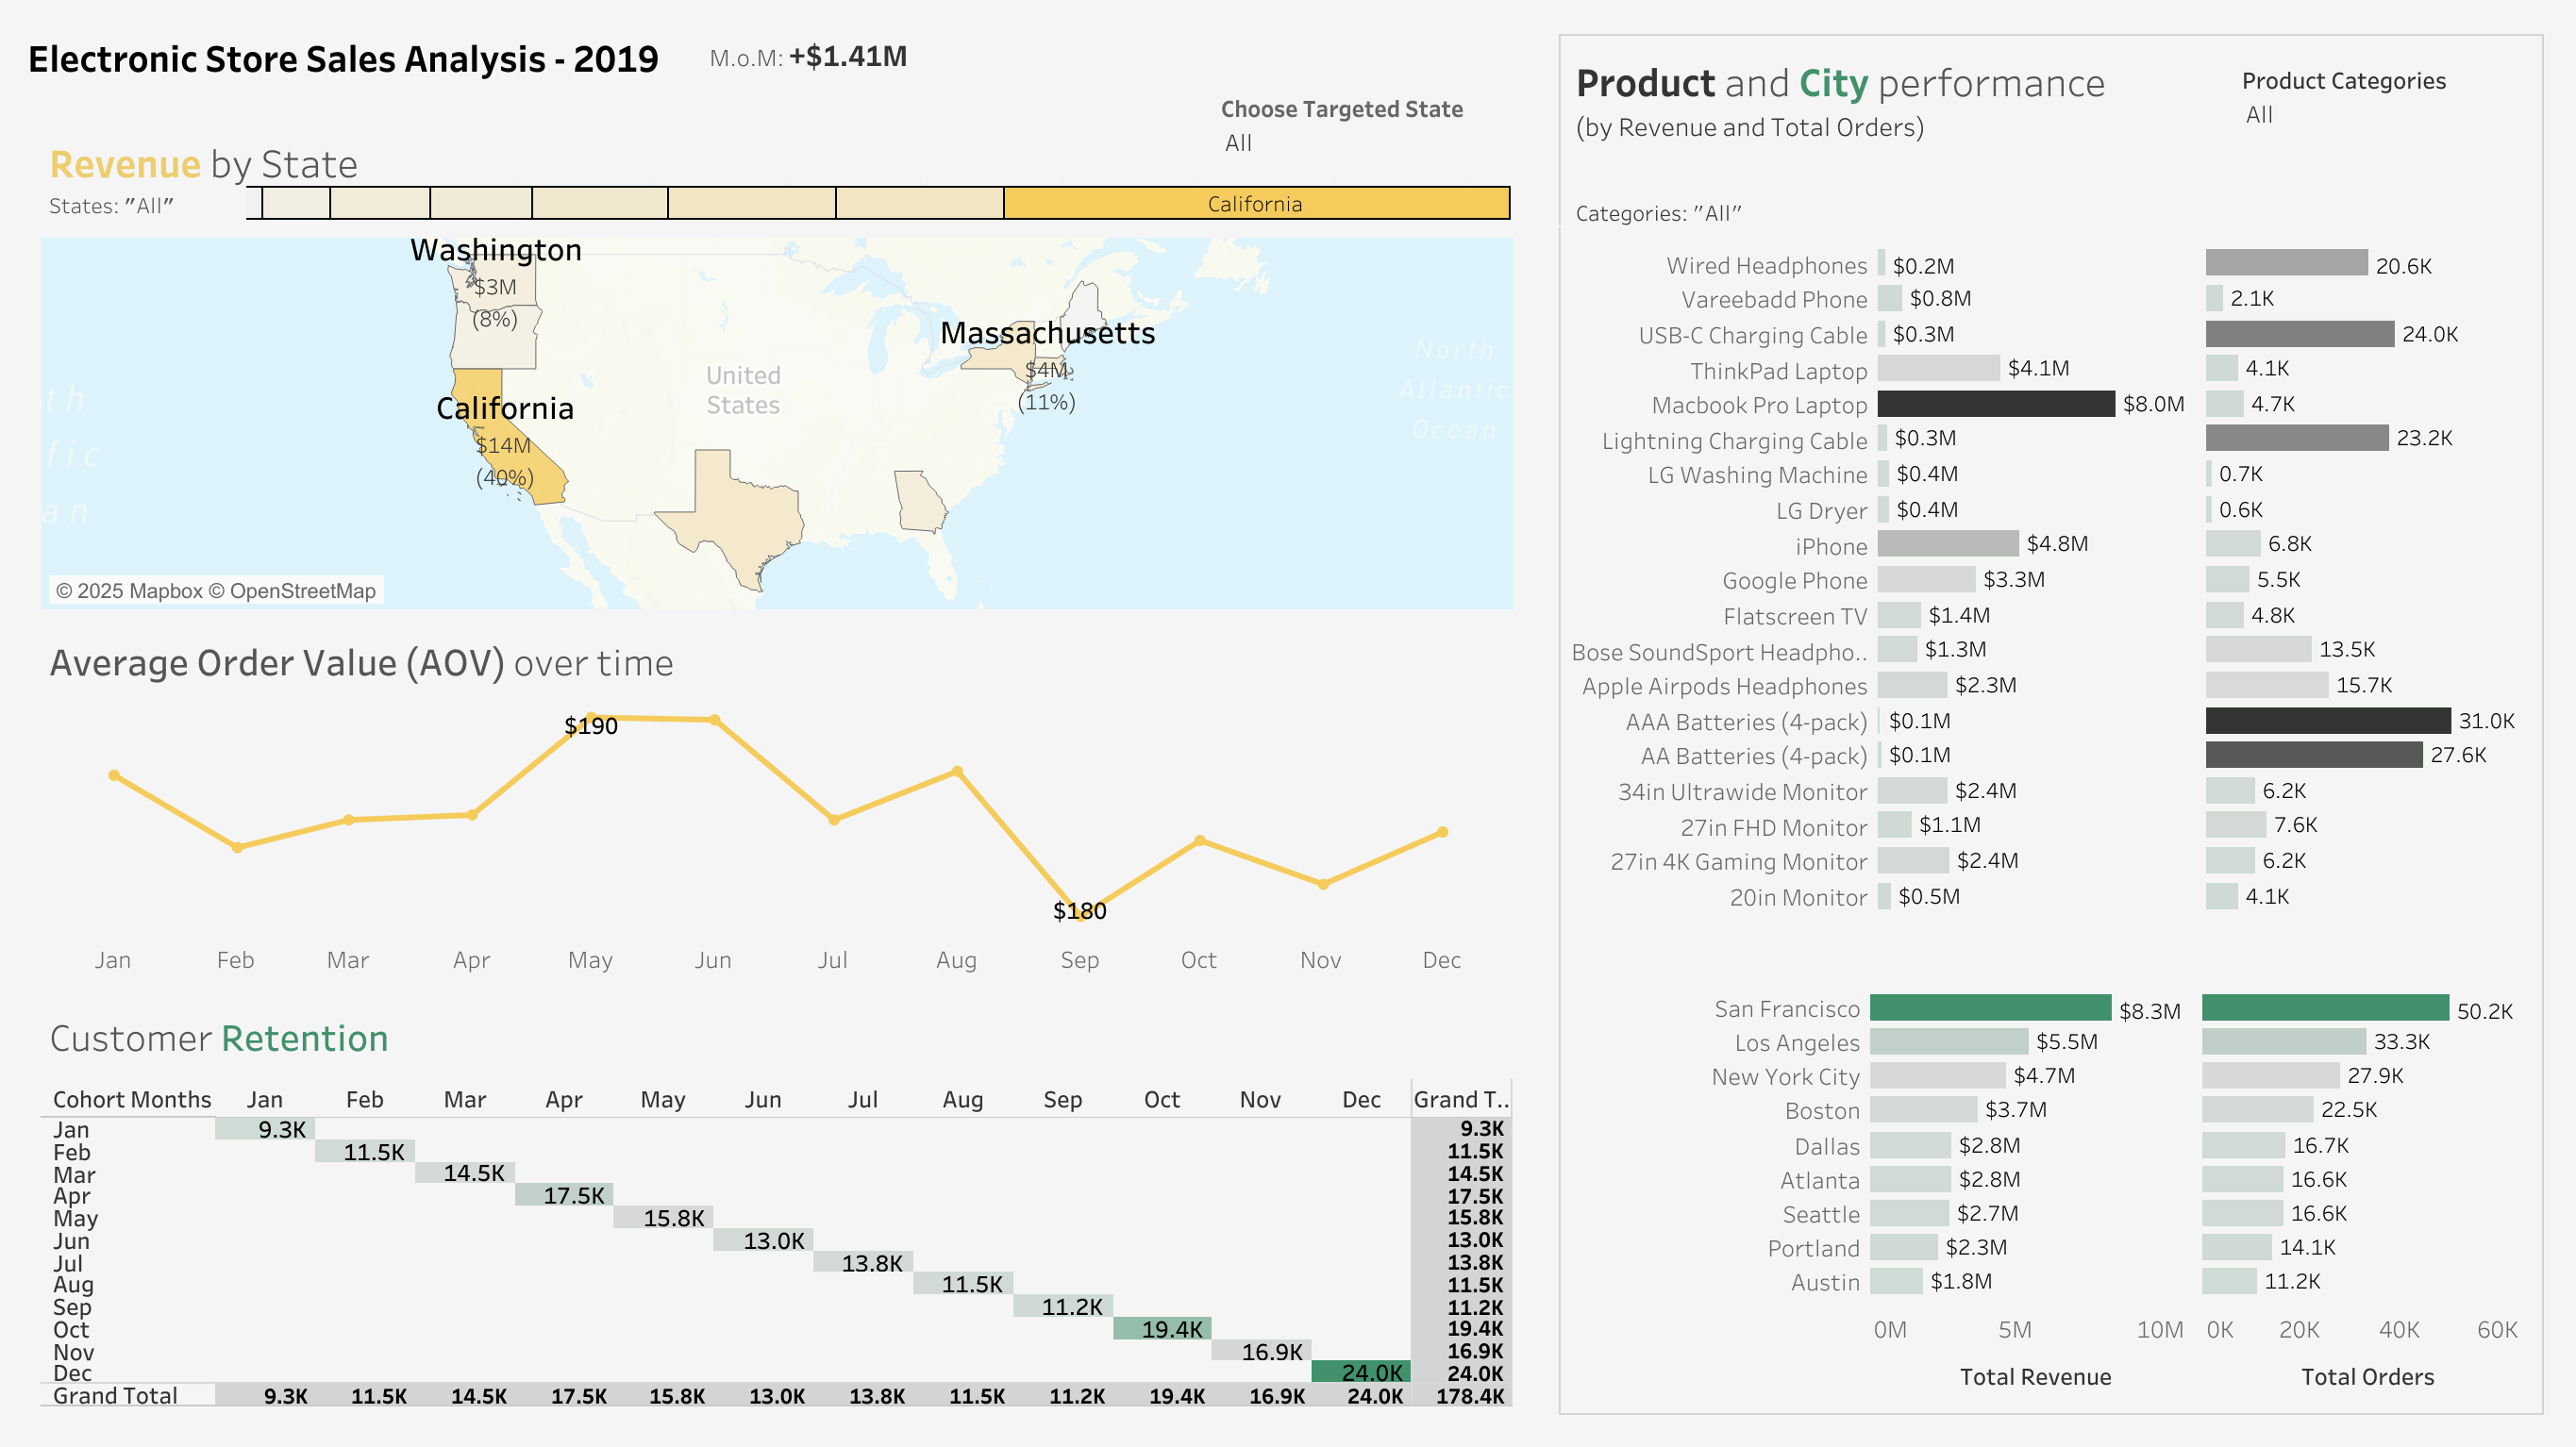

Layout of this report page (visuals, bound fields, positions):
{"tool":"tableau","page":{"name":"Dashboard 1","canvas":[1366,768],"ordinal":0},"visuals":[{"type":"worksheet","title":"M.o.M","mark":"Automatic","box":[359,1,186,55]},{"type":"text","box":[8,8,808,44.3]},{"type":"worksheet","title":"product performance","mark":"Automatic","rows":["Product"],"cols":["Revenue","Quantity Ordered"],"box":[827,19,520,469.9]},{"type":"filter","title":"product performance","param":"[federated.1l918d50gcwy8e11lo26d075tlai].[Product Categories]","box":[1188,32,151,79]},{"type":"filter","title":"revenue rank","param":"[federated.1l918d50gcwy8e11lo26d075tlai].[none:State:nk]","box":[647,47,174,256]},{"type":"worksheet","title":"revenue by map","mark":"Multipolygon","box":[18,62.3,788,265]},{"type":"dashboard-object","box":[1164,84,179,23]},{"type":"worksheet","title":"revenue distribution by location","mark":"Automatic","cols":["Calculation_798544564899889154"],"box":[130,95,704,25]},{"type":"worksheet","title":"aov vs revenue","mark":"Automatic","rows":["Calculation_798544564469731329"],"cols":["Order Date"],"box":[18,327.3,788,198.7]},{"type":"worksheet","title":"revenue rank","mark":"Automatic","rows":["City"],"cols":["Revenue","Quantity Ordered"],"box":[827,488.9,520,259.9]},{"type":"worksheet","title":"cohort","mark":"Square","rows":["Calculation_798544564461023232"],"cols":["Order Date"],"box":[18,526,788,224]}]}

Visuals, with their boxes in screenshot pixels (x1, y1, x2, y2), scaled from the page's 1366x768 canvas onto the 2576x1447 screenshot:
"M.o.M" worksheet: 677,2,1028,106
text: 15,15,1539,98
"product performance" worksheet: 1560,36,2540,922
"product performance" filter: 2240,60,2525,209
"revenue rank" filter: 1220,89,1548,571
"revenue by map" worksheet (Multipolygon marks): 34,117,1520,617
dashboard-object: 2195,158,2533,202
"revenue distribution by location" worksheet: 245,179,1573,226
"aov vs revenue" worksheet: 34,617,1520,991
"revenue rank" worksheet: 1560,922,2540,1411
"cohort" worksheet (Square marks): 34,991,1520,1413
